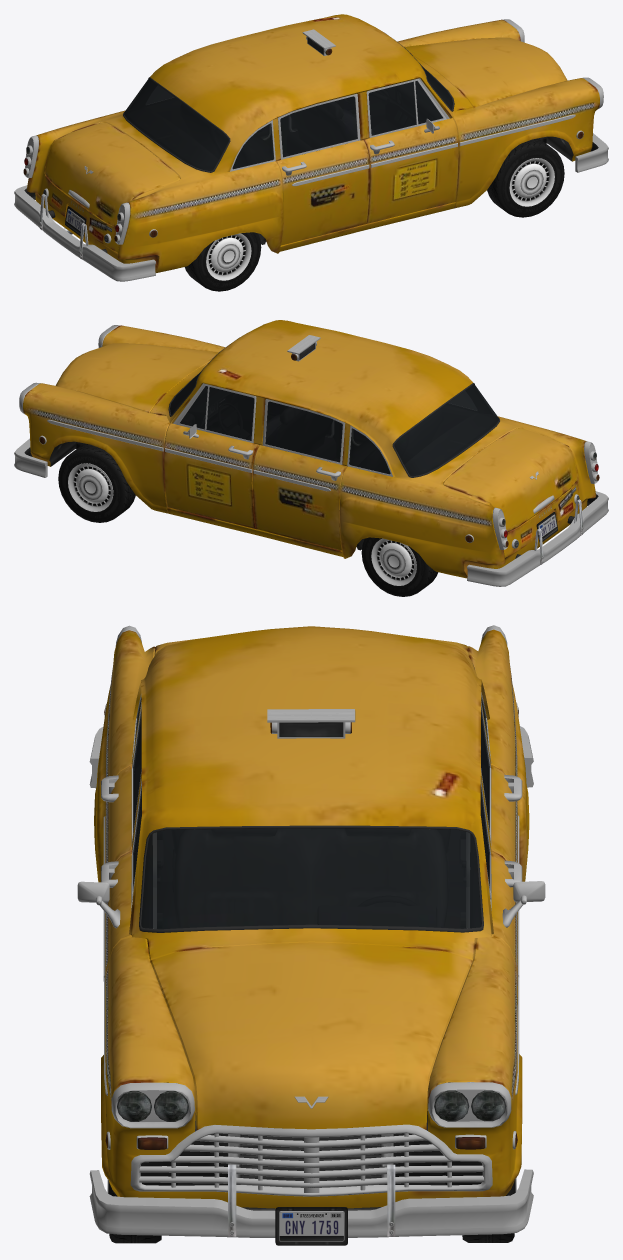
Rendered from taxi-canyon.glb.
3 renders of one model, top to bottom at view 1: azimuth 30°, elevation 25°; view 2: azimuth 150°, elevation 25°; view 3: azimuth 270°, elevation 25°, orthographic. The views are drawn at different scales.
Parts seen in each view (by area): view 1: Canyon75_Body_Canyon75_Bodymat_0, Canyon75_Interior_UCB_Interiors_2_0, Canyon75_Trunk_door_Canyon75_Bodymat_0, Canyon75_Hood_Canyon75_Bodymat_0, Canyon75_Bottom_UCB_BOTTOM_0, Canyon75_Rear_windows_UCB_Lights_and_Glass_Transperent_0, Canyon75_WheelStock_FR_RB1c_Tire_1k_0, Canyon75_Bodyglass_UCB_Lights_and_Glass_Transperent_0, Canyon75_Bumper_rear_UCB_BOTTOM_0, Canyon75_WheelStock_RR_RB1c_Tire_1k_0, Canyon75_Glass_Passenger_UCB_Lights_and_Glass_Transperent_0, Canyon75_Bumper_front_UCB_BOTTOM_0 (+1 smaller); view 2: Canyon75_Body_Canyon75_Bodymat_0, Canyon75_Interior_UCB_Interiors_2_0, Canyon75_Trunk_door_Canyon75_Bodymat_0, Canyon75_Hood_Canyon75_Bodymat_0, Canyon75_Bottom_UCB_BOTTOM_0, Canyon75_Rear_windows_UCB_Lights_and_Glass_Transperent_0, Canyon75_WheelStock_FL_RB1c_Tire_1k_0, Canyon75_Bodyglass_UCB_Lights_and_Glass_Transperent_0, Canyon75_Bumper_rear_UCB_BOTTOM_0, Canyon75_WheelStock_RL_RB1c_Tire_1k_0, Canyon75_Glass_Driver_UCB_Lights_and_Glass_Transperent_0, Canyon75_Bumper_front_UCB_BOTTOM_0 (+1 smaller); view 3: Canyon75_Body_Canyon75_Bodymat_0, Canyon75_Hood_Canyon75_Bodymat_0, Canyon75_Bottom_UCB_BOTTOM_0, Canyon75_Interior_UCB_Interiors_2_0, Canyon75_Windshield_UCB_Lights_and_Glass_Transperent_0, Canyon75_Bumper_front_UCB_BOTTOM_0, Canyon75_Headlights_UCB_Lights_and_Glass_0, Canyon75_Taxi_Beacon_UCB_BOTTOM_0, Canyon75_Numberplate_Front_Numberplates_Misk_U_0, Canyon75_Bodyglass_UCB_Lights_and_Glass_Transperent_0, Canyon75_Bumper_rear_UCB_BOTTOM_0.
Boxes of the visible parts, <box> form: Canyon75_Body_Canyon75_Bodymat_0: <box>26,14,599,272</box>; Canyon75_Interior_UCB_Interiors_2_0: <box>124,71,452,170</box>; Canyon75_Trunk_door_Canyon75_Bodymat_0: <box>45,122,179,226</box>; Canyon75_Hood_Canyon75_Bodymat_0: <box>404,37,567,107</box>; Canyon75_Bottom_UCB_BOTTOM_0: <box>23,19,603,244</box>; Canyon75_Rear_windows_UCB_Lights_and_Glass_Transperent_0: <box>124,78,273,171</box>; Canyon75_WheelStock_FR_RB1c_Tire_1k_0: <box>487,138,564,217</box>; Canyon75_Bodyglass_UCB_Lights_and_Glass_Transperent_0: <box>280,81,443,157</box>; Canyon75_Bumper_rear_UCB_BOTTOM_0: <box>14,185,155,281</box>; Canyon75_WheelStock_RR_RB1c_Tire_1k_0: <box>184,232,261,291</box>; Canyon75_Glass_Passenger_UCB_Lights_and_Glass_Transperent_0: <box>368,81,416,135</box>; Canyon75_Bumper_front_UCB_BOTTOM_0: <box>575,133,608,172</box>; Canyon75_Body_Canyon75_Bodymat_0: <box>23,320,596,578</box>; Canyon75_Interior_UCB_Interiors_2_0: <box>170,376,498,475</box>; Canyon75_Trunk_door_Canyon75_Bodymat_0: <box>443,428,577,531</box>; Canyon75_Hood_Canyon75_Bodymat_0: <box>55,343,218,412</box>; Canyon75_Bottom_UCB_BOTTOM_0: <box>19,325,599,549</box>; Canyon75_Rear_windows_UCB_Lights_and_Glass_Transperent_0: <box>349,384,498,476</box>; Canyon75_WheelStock_FL_RB1c_Tire_1k_0: <box>58,444,135,522</box>; Canyon75_Bodyglass_UCB_Lights_and_Glass_Transperent_0: <box>179,386,342,462</box>; Canyon75_Bumper_rear_UCB_BOTTOM_0: <box>467,491,608,586</box>; Canyon75_WheelStock_RL_RB1c_Tire_1k_0: <box>361,537,438,596</box>; Canyon75_Glass_Driver_UCB_Lights_and_Glass_Transperent_0: <box>206,387,254,440</box>; Canyon75_Bumper_front_UCB_BOTTOM_0: <box>14,438,47,477</box>; Canyon75_Body_Canyon75_Bodymat_0: <box>94,626,529,1208</box>; Canyon75_Hood_Canyon75_Bodymat_0: <box>150,942,472,1129</box>; Canyon75_Bottom_UCB_BOTTOM_0: <box>77,625,545,1210</box>; Canyon75_Interior_UCB_Interiors_2_0: <box>134,720,488,931</box>; Canyon75_Windshield_UCB_Lights_and_Glass_Transperent_0: <box>141,828,481,929</box>; Canyon75_Bumper_front_UCB_BOTTOM_0: <box>89,1164,533,1245</box>; Canyon75_Headlights_UCB_Lights_and_Glass_0: <box>117,1090,505,1121</box>; Canyon75_Taxi_Beacon_UCB_BOTTOM_0: <box>267,709,355,738</box>; Canyon75_Numberplate_Front_Numberplates_Misk_U_0: <box>279,1211,344,1241</box>; Canyon75_Bodyglass_UCB_Lights_and_Glass_Transperent_0: <box>133,708,490,898</box>; Canyon75_Bumper_rear_UCB_BOTTOM_0: <box>89,726,533,788</box>.
Size of the model in its own units: 5.31 by 1.83 by 2.13.
Materials: 8 (8 with a texture image).
